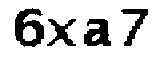6: (9, 5, 46, 50)
7: (119, 5, 151, 48)
a: (81, 16, 113, 50)
x: (45, 14, 81, 51)
